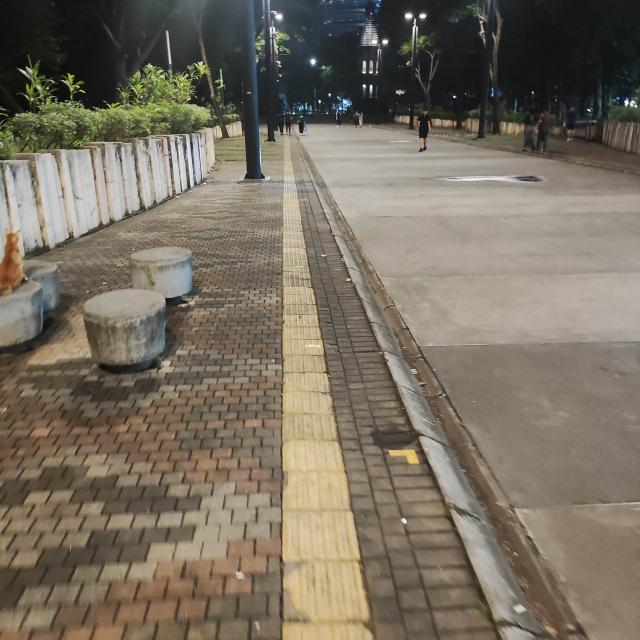lurus: (267, 162, 366, 640)
